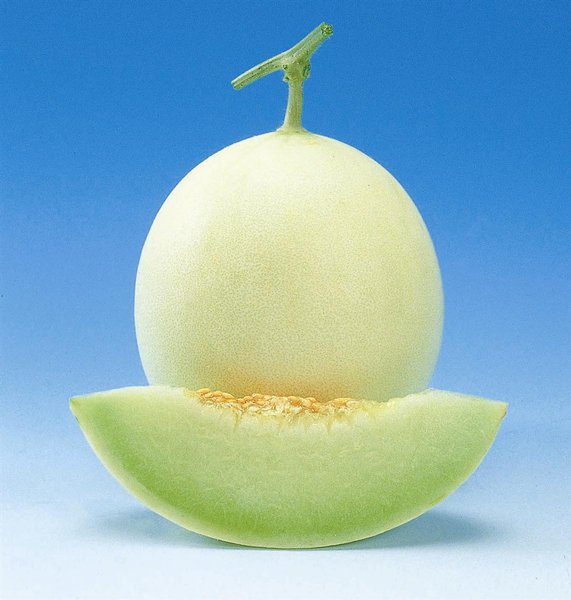Melon: (51, 368, 508, 544)
